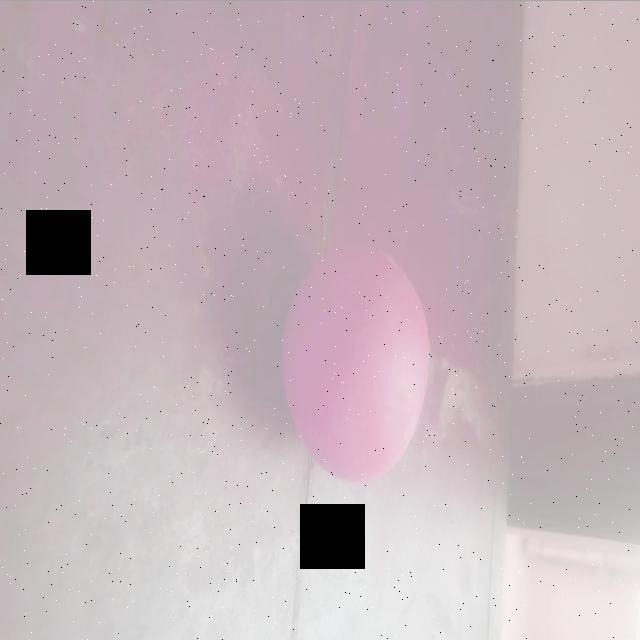egg: (272, 234, 437, 492)
